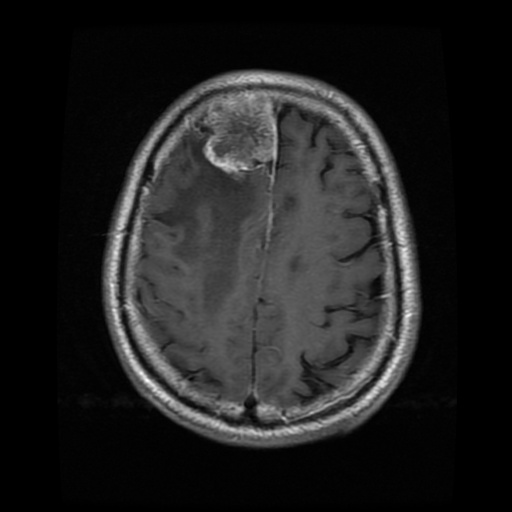meningioma: (200, 97, 275, 178)
